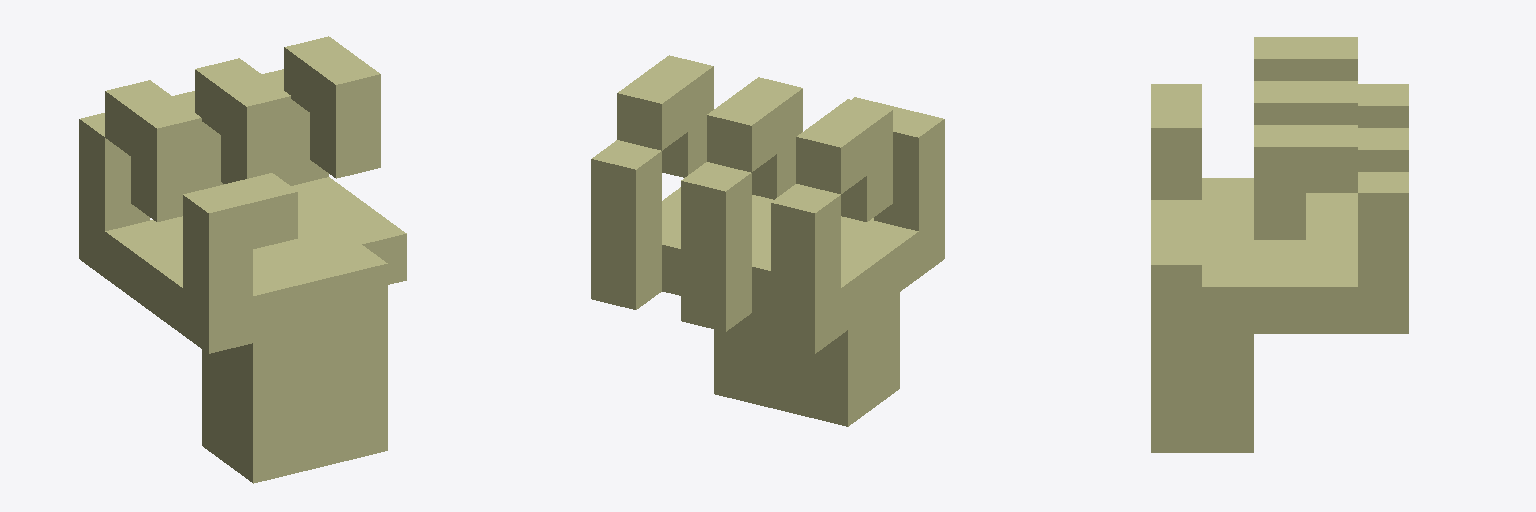
The picture shows the model from 3 angles: view 1: azimuth 30°, elevation 25°; view 2: azimuth 150°, elevation 25°; view 3: azimuth 270°, elevation 25°; orthographic projection.
Visible parts, largest first — view 1: object 1; view 2: object 1; view 3: object 1.
Boxes of the visible parts, box(x1,y1,x2,y2) form: object 1: box(79, 36, 406, 483); object 1: box(591, 55, 944, 426); object 1: box(1151, 37, 1408, 452).
Bounding box in the file's own units: 0.5 × 0.7 × 0.5.
1 materials, 1 textured.